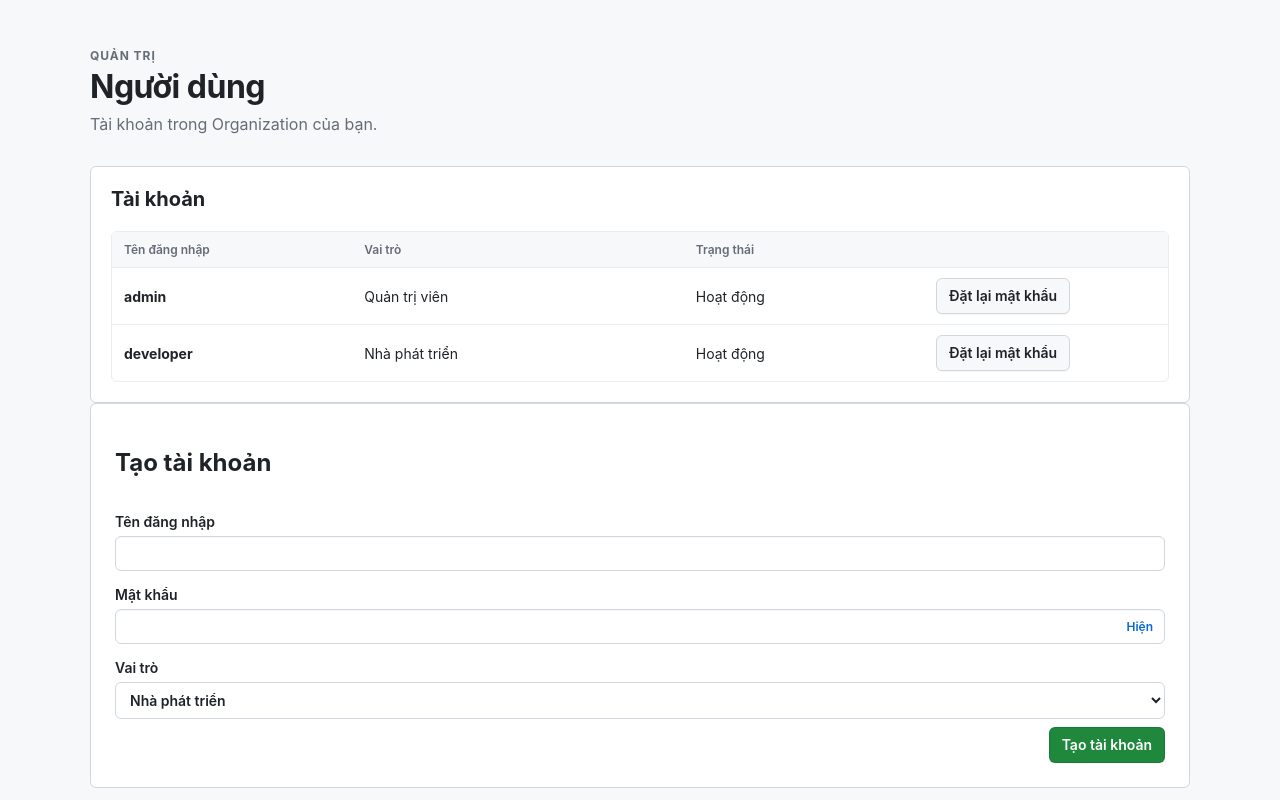
Test case: maps a duplicate username to the username field
Expected: the text "developer" is shown, left=124, top=344, right=193, bottom=362
Type "developer" into the field labelled "Tên đăng nhập" at (640, 553), box left=115, top=536, right=1165, bottom=571
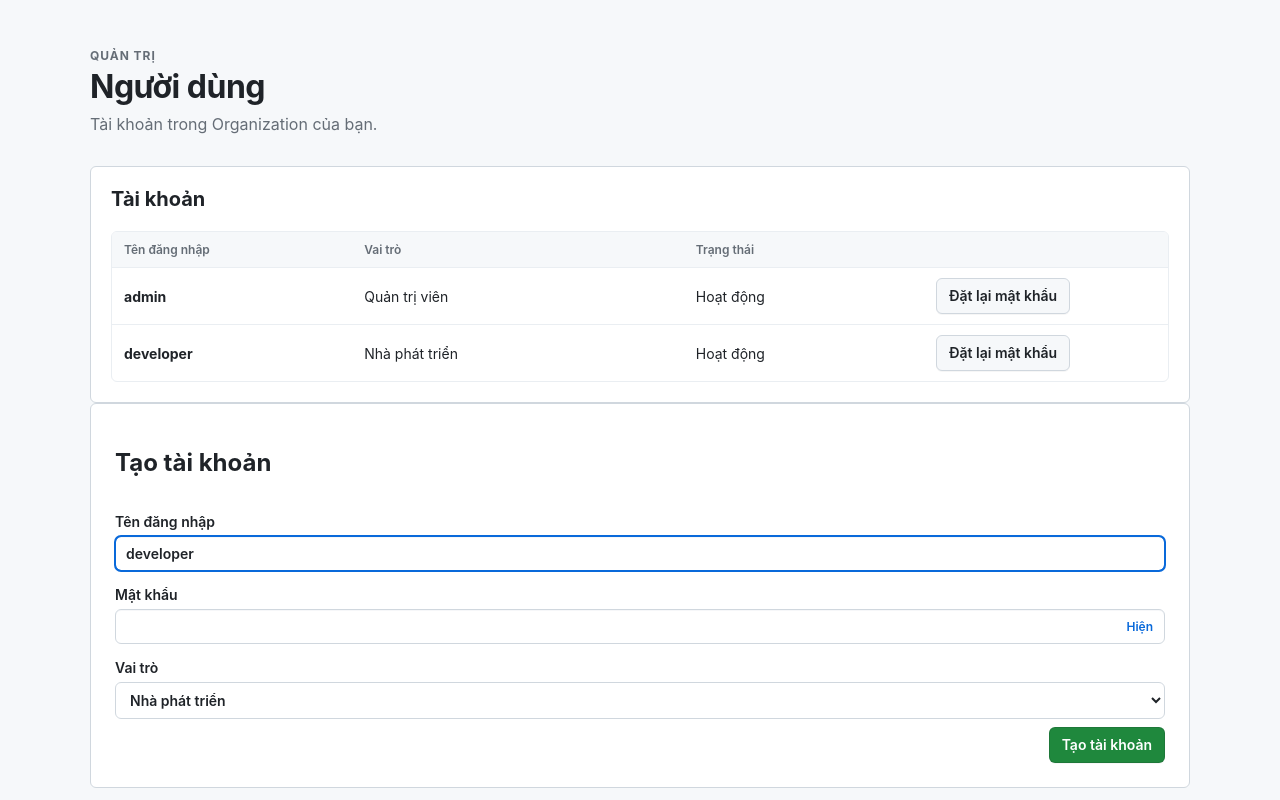
Type "password-1" into the password field labelled "Mật khẩu" at (640, 626), box left=115, top=609, right=1165, bottom=644
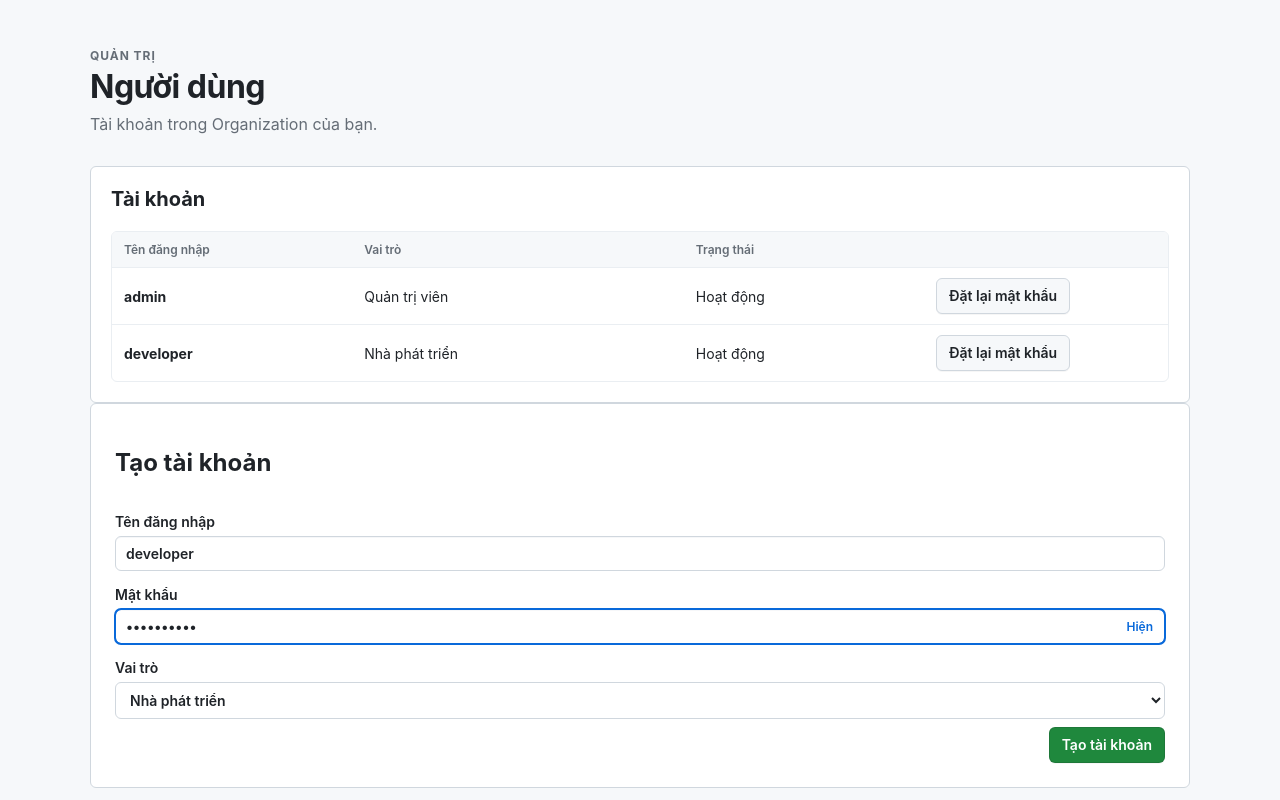
Click the button "Tạo tài khoản" at (1107, 745), box left=1049, top=727, right=1165, bottom=763
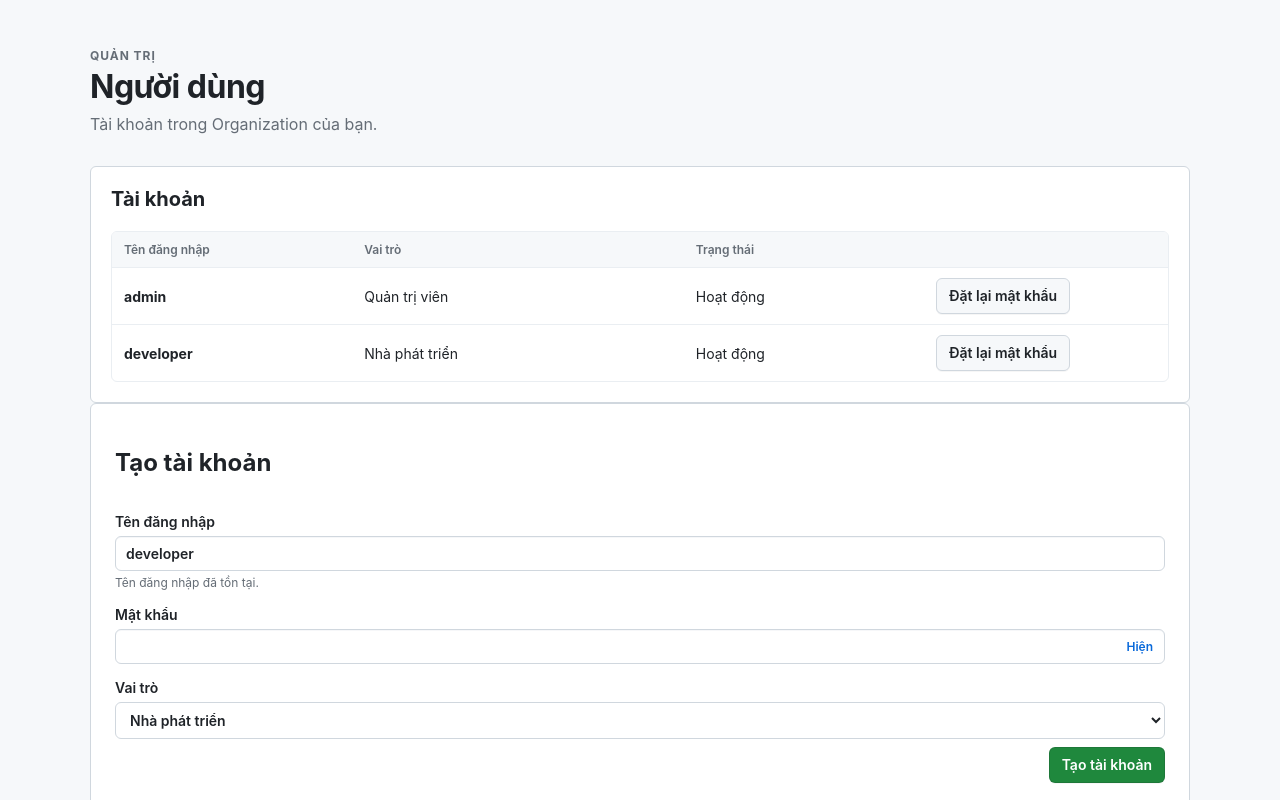
Now the text "Tên đăng nhập đã tồn tại." is shown, box left=115, top=575, right=259, bottom=590
